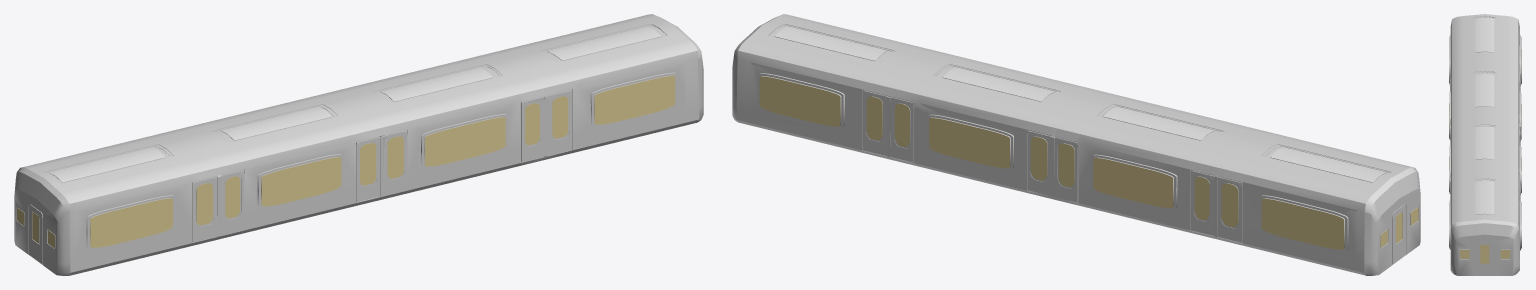
File: Kereta1 fix.fbx
The picture shows the model from 3 angles, left to right: view 1: azimuth 30°, elevation 25°; view 2: azimuth 150°, elevation 25°; view 3: azimuth 270°, elevation 25°; orthographic projection. The views are drawn at different scales.
Parts seen in each view (by area): view 1: Plane.023; view 2: Plane.023; view 3: Plane.023.
Part boxes in pixels (x1,y1,x2,y2): Plane.023: (14,14,703,275); Plane.023: (732,14,1420,275); Plane.023: (1449,14,1521,275).
Bounding box in the file's own units: 188 × 22.19 × 27.38.
